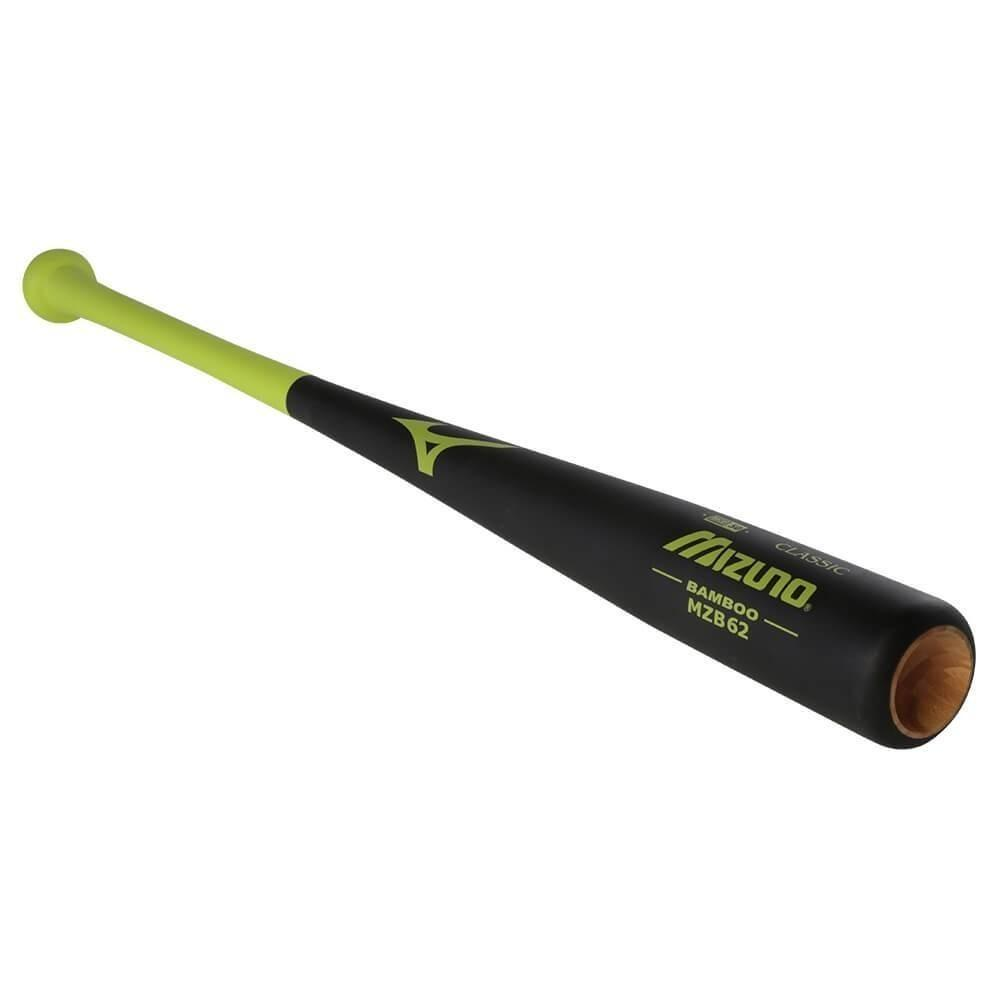Baseball-Bat: (15, 185, 1000, 790)
